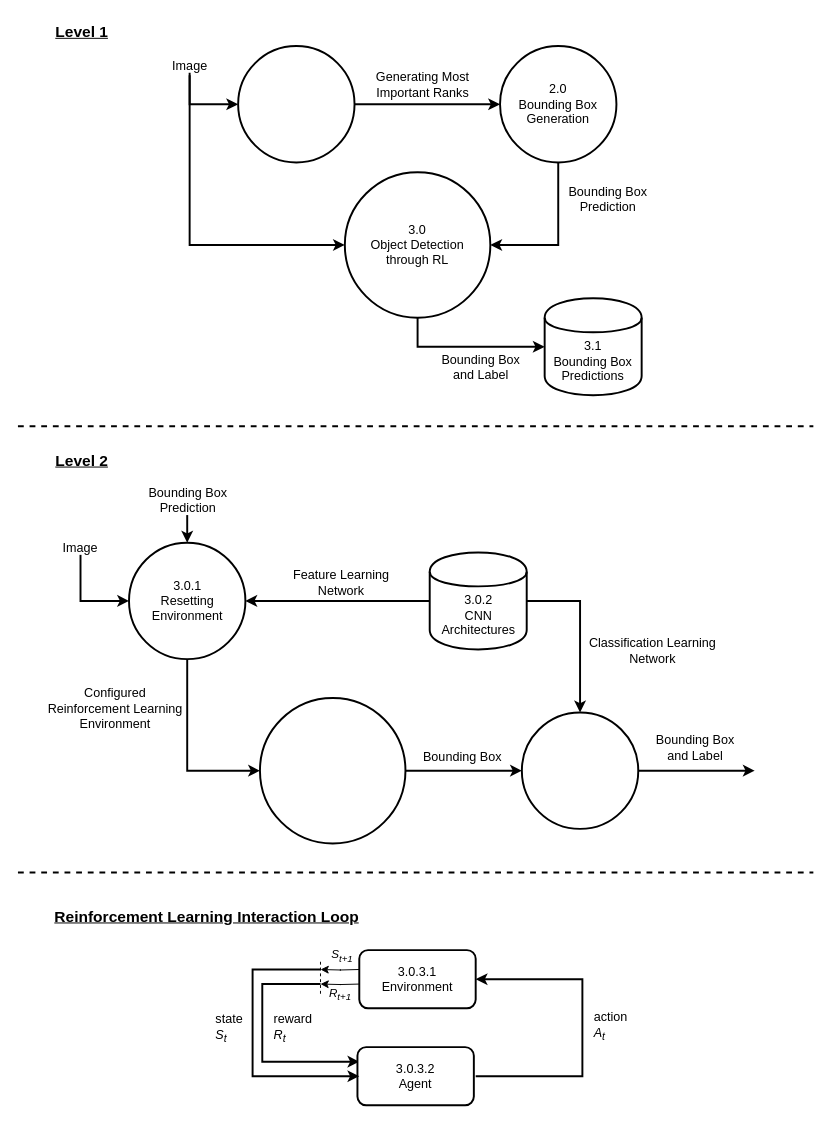
Image size: 831x1122. Some labels were removed from this diagram. The shapes that lost their labels are listed below. From the top down, each one's centre as x and y in pixels, then its label:
(296,104): 1.0 Saliency Ranking
(332,770): 3.0.3 Reinforcement Learning Interaction Loop
(579,770): 3.0.4 Predicting Class Label for ROI
